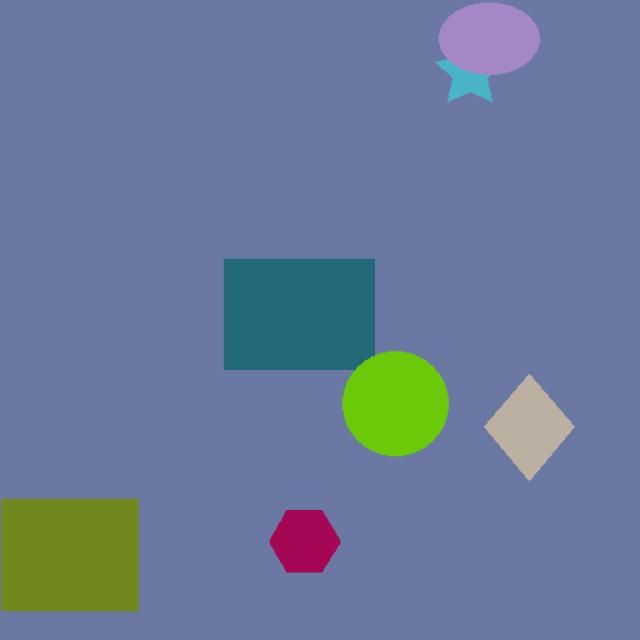Circle: (324, 346, 457, 471)
Oval: (432, 3, 547, 80)
Pentagon: (264, 503, 351, 579)
Rectangle: (3, 487, 164, 628), (215, 254, 385, 382)
Star: (426, 42, 504, 115)
square: (471, 364, 597, 490)
